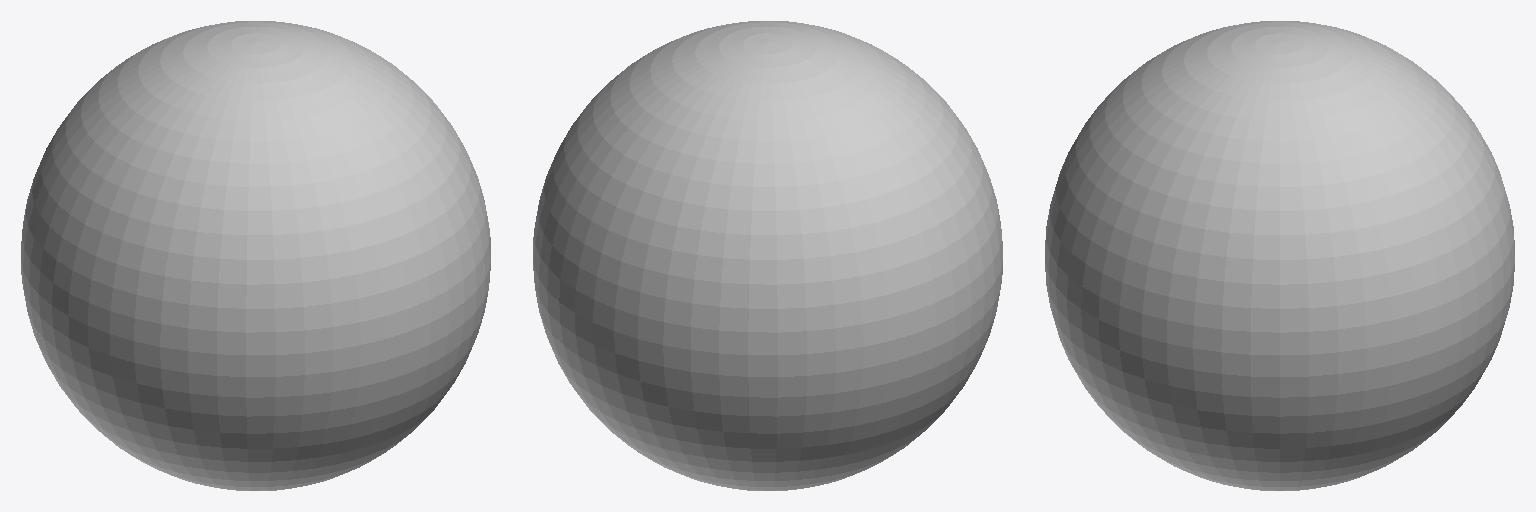
3 renders of one model, left to right at view 1: azimuth 30°, elevation 25°; view 2: azimuth 150°, elevation 25°; view 3: azimuth 270°, elevation 25°, orthographic.
Parts seen in each view (by area): view 1: SteelSpecTest:pSphere1; view 2: SteelSpecTest:pSphere1; view 3: SteelSpecTest:pSphere1.
Boxes of the visible parts, x1,y1,x2,y2 form: SteelSpecTest:pSphere1: [21, 21, 490, 490]; SteelSpecTest:pSphere1: [533, 21, 1002, 490]; SteelSpecTest:pSphere1: [1045, 21, 1514, 490].
Bounding box in the file's own units: 2 × 2 × 2.